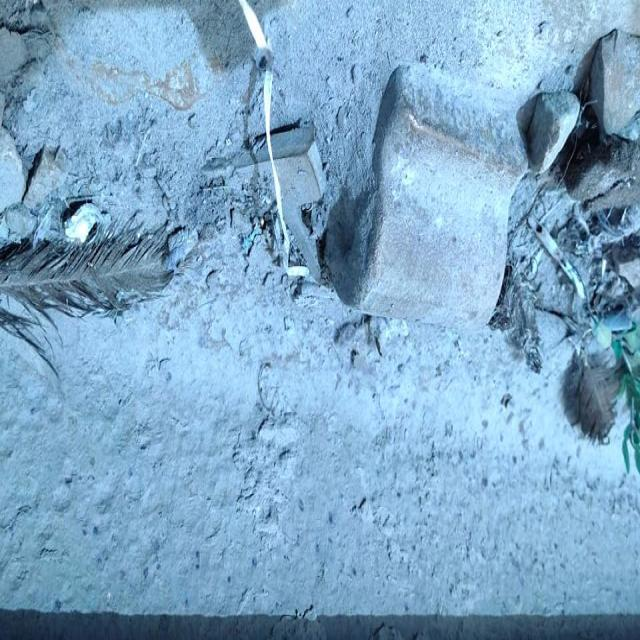Missing Fastener: (300, 39, 540, 401)
